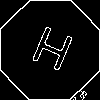H: (25, 25, 76, 82)
